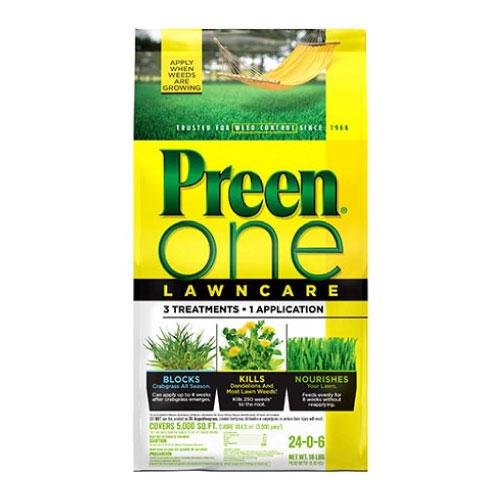crabgrass: (145, 329, 214, 371)
